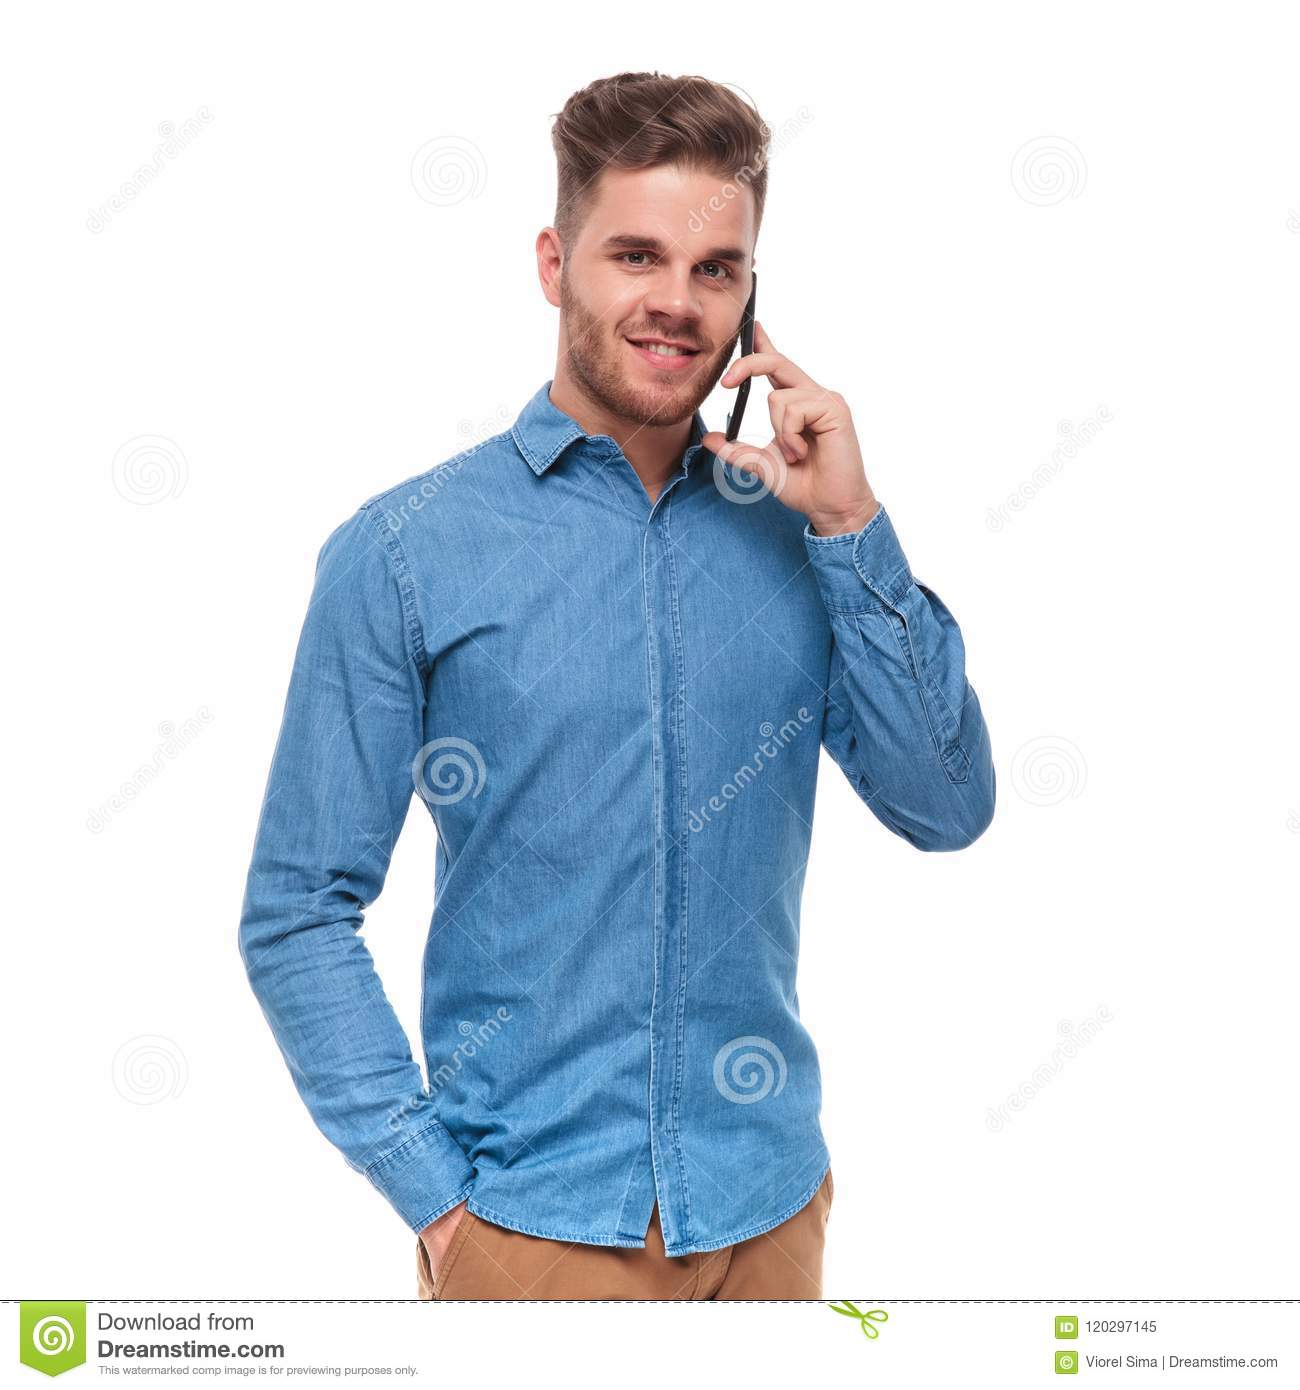phone: (711, 270, 771, 452)
talk: (574, 203, 855, 530)
